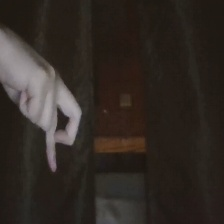P: (1, 17, 90, 180)
